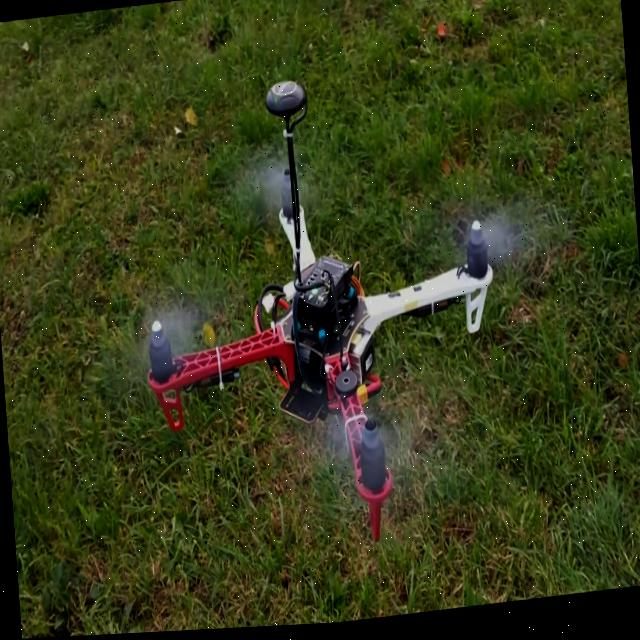drone: (109, 34, 536, 565)
